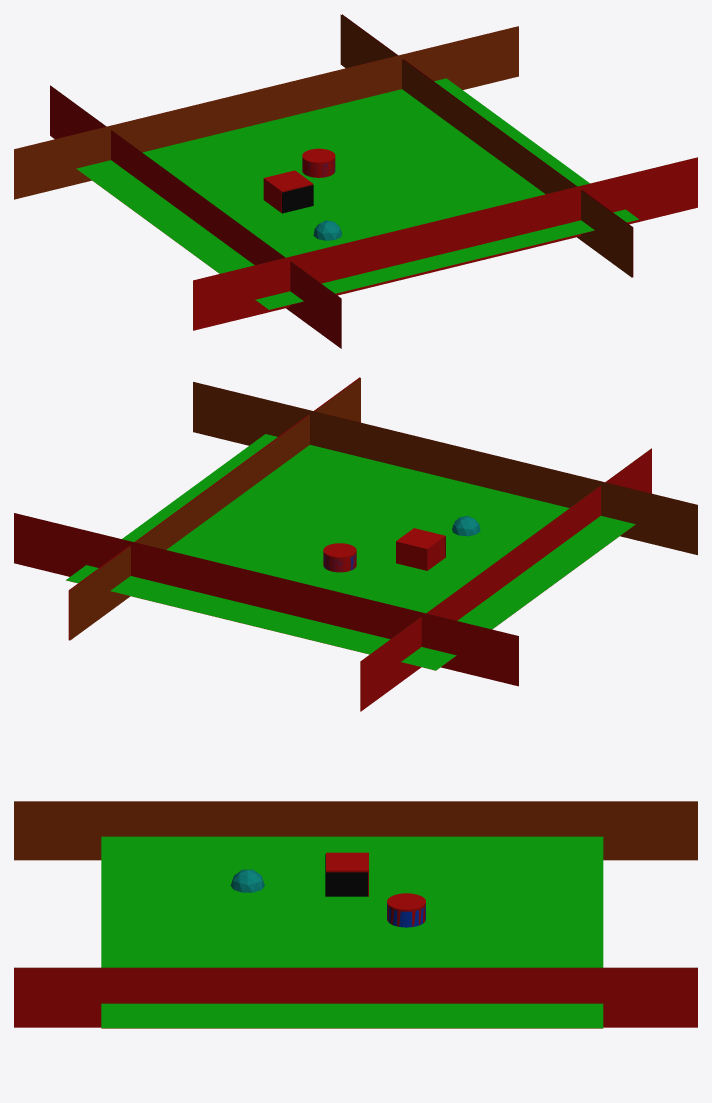
Rendered from MapCollision.obj.
3 views of the same model, one above another, from view 1: azimuth 30°, elevation 25°; view 2: azimuth 150°, elevation 25°; view 3: azimuth 270°, elevation 25° (orthographic). The views are drawn at different scales.
Visible parts, largest first — view 1: Plane.002_Plane.003, Plane.001_Plane.012, Plane.005_Plane.015, Plane.007_Plane.017, Plane.008_Plane.018, Cube_Cube.001, Cylinder, Cube.001_Cube.002, Plane.006_Plane.016; view 2: Plane.002_Plane.003, Plane.004_Plane.014, Plane.003_Plane.013, Plane.008_Plane.018, Plane.007_Plane.017, Cube_Cube.001, Cylinder, Plane.006_Plane.016; view 3: Plane.002_Plane.003, Plane.006_Plane.016, Plane.009_Plane.019, Plane.007_Plane.017, Cube.001_Cube.002, Cube_Cube.001, Cylinder, Icosphere.
Part boxes in pixels (x1=…): Plane.002_Plane.003: x1=76, y1=78, x2=638, y2=309; Plane.001_Plane.012: x1=193, y1=157, x2=697, y2=330; Plane.005_Plane.015: x1=14, y1=26, x2=518, y2=199; Plane.007_Plane.017: x1=340, y1=14, x2=632, y2=277; Plane.008_Plane.018: x1=50, y1=85, x2=341, y2=348; Cube_Cube.001: x1=263, y1=170, x2=313, y2=212; Cylinder: x1=302, y1=148, x2=335, y2=177; Cube.001_Cube.002: x1=282, y1=185, x2=313, y2=213; Plane.006_Plane.016: x1=342, y1=14, x2=633, y2=277; Plane.002_Plane.003: x1=66, y1=434, x2=635, y2=670; Plane.004_Plane.014: x1=14, y1=513, x2=518, y2=686; Plane.003_Plane.013: x1=193, y1=382, x2=697, y2=555; Plane.008_Plane.018: x1=360, y1=448, x2=651, y2=711; Plane.007_Plane.017: x1=69, y1=377, x2=360, y2=640; Cube_Cube.001: x1=396, y1=528, x2=445, y2=570; Cylinder: x1=323, y1=543, x2=356, y2=572; Plane.006_Plane.016: x1=68, y1=377, x2=359, y2=639; Plane.002_Plane.003: x1=101, y1=836, x2=603, y2=1028; Plane.006_Plane.016: x1=14, y1=968, x2=697, y2=1027; Plane.009_Plane.019: x1=14, y1=801, x2=697, y2=860; Plane.007_Plane.017: x1=14, y1=967, x2=697, y2=968; Cube.001_Cube.002: x1=325, y1=854, x2=367, y2=896; Cube_Cube.001: x1=326, y1=852, x2=368, y2=896; Cylinder: x1=387, y1=893, x2=425, y2=926; Icosphere: x1=230, y1=869, x2=264, y2=892.
Bounding box in the file's own units: 100 × 10.36 × 100.
